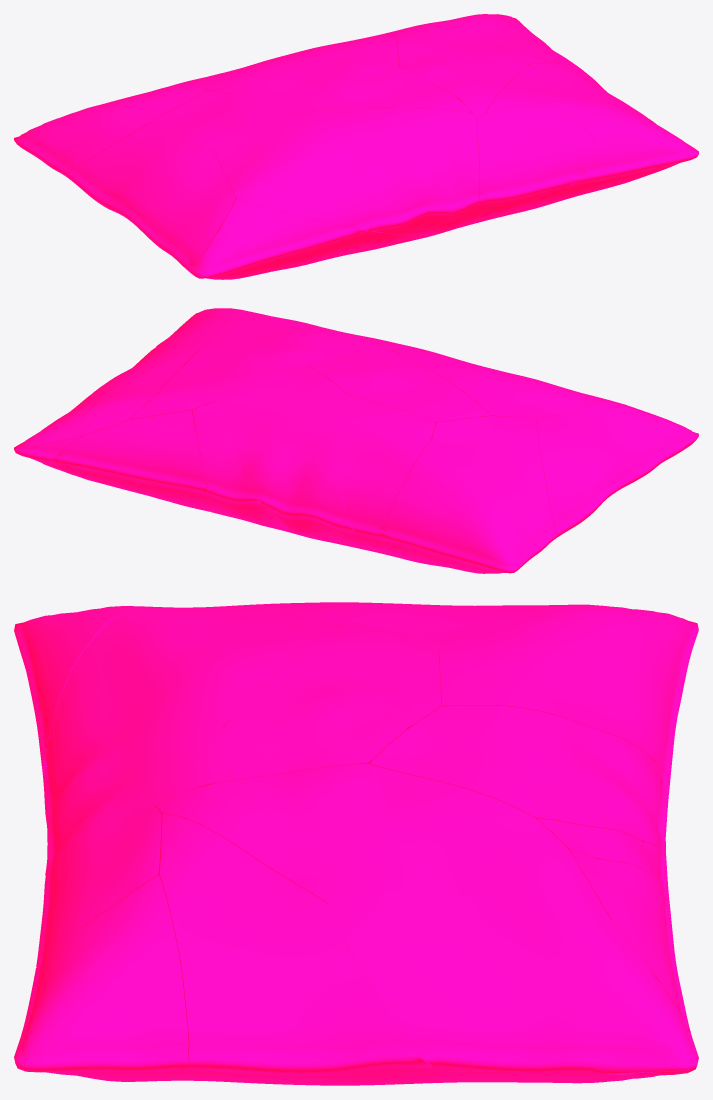
Rendered from BrokenMakura.fbx.
3 renders of one model, top to bottom at view 1: azimuth 30°, elevation 25°; view 2: azimuth 150°, elevation 25°; view 3: azimuth 270°, elevation 25°, orthographic. The views are drawn at different scales.
Visible parts, largest first — view 1: 平面_cell, 平面_cell.001, 平面_cell.017, 平面_cell.008, 平面_cell.012, 平面_cell.004, 平面_cell.016, 平面_cell.007, 平面_cell.002, 平面_cell.014, 平面_cell.010, 平面_cell.011 (+1 smaller); view 2: 平面_cell.011, 平面_cell.007, 平面_cell.001, 平面_cell.015, 平面_cell.005, 平面_cell.016, 平面_cell.012, 平面_cell, 平面_cell.002, 平面_cell.010, 平面_cell.006, 平面_cell.014 (+3 smaller); view 3: 平面_cell.010, 平面_cell.014, 平面_cell.016, 平面_cell, 平面_cell.004, 平面_cell.011, 平面_cell.012, 平面_cell.005, 平面_cell.007, 平面_cell.017, 平面_cell.015, 平面_cell.008 (+4 smaller).
Part boxes in pixels (left/top/right/bottom): 平面_cell: left=215, top=108, right=479, bottom=234; 平面_cell.001: left=64, top=148, right=235, bottom=269; 平面_cell.017: left=475, top=103, right=595, bottom=219; 平面_cell.008: left=186, top=198, right=416, bottom=279; 平面_cell.012: left=228, top=63, right=471, bottom=125; 平面_cell.004: left=478, top=98, right=698, bottom=219; 平面_cell.016: left=394, top=20, right=528, bottom=121; 平面_cell.007: left=14, top=83, right=207, bottom=175; 平面_cell.002: left=65, top=90, right=231, bottom=179; 平面_cell.014: left=477, top=62, right=638, bottom=222; 平面_cell.010: left=446, top=14, right=580, bottom=68; 平面_cell.011: left=270, top=32, right=398, bottom=66; 平面_cell.011: left=220, top=366, right=377, bottom=549; 平面_cell.007: left=380, top=439, right=556, bottom=573; 平面_cell.001: left=536, top=401, right=690, bottom=536; 平面_cell.015: left=53, top=410, right=210, bottom=511; 平面_cell.005: left=336, top=396, right=435, bottom=546; 平面_cell.016: left=129, top=327, right=342, bottom=434; 平面_cell.012: left=308, top=332, right=490, bottom=423; 平面_cell: left=350, top=333, right=602, bottom=419; 平面_cell.002: left=374, top=416, right=557, bottom=572; 平面_cell.010: left=14, top=347, right=199, bottom=450; 平面_cell.006: left=192, top=400, right=294, bottom=532; 平面_cell.014: left=113, top=318, right=330, bottom=378; 平面_cell.010: left=327, top=887, right=697, bottom=1073; 平面_cell.014: left=157, top=813, right=445, bottom=1085; 平面_cell.016: left=156, top=763, right=610, bottom=918; 平面_cell: left=42, top=610, right=343, bottom=876; 平面_cell.004: left=14, top=875, right=189, bottom=1081; 平面_cell.011: left=370, top=705, right=670, bottom=854; 平面_cell.012: left=170, top=626, right=442, bottom=798; 平面_cell.005: left=439, top=641, right=673, bottom=775; 平面_cell.007: left=473, top=604, right=698, bottom=745; 平面_cell.017: left=36, top=807, right=161, bottom=966; 平面_cell.015: left=570, top=850, right=690, bottom=1031; 平面_cell.008: left=14, top=610, right=125, bottom=767.
Size of the model in its own units: 256 by 65.74 by 166.
